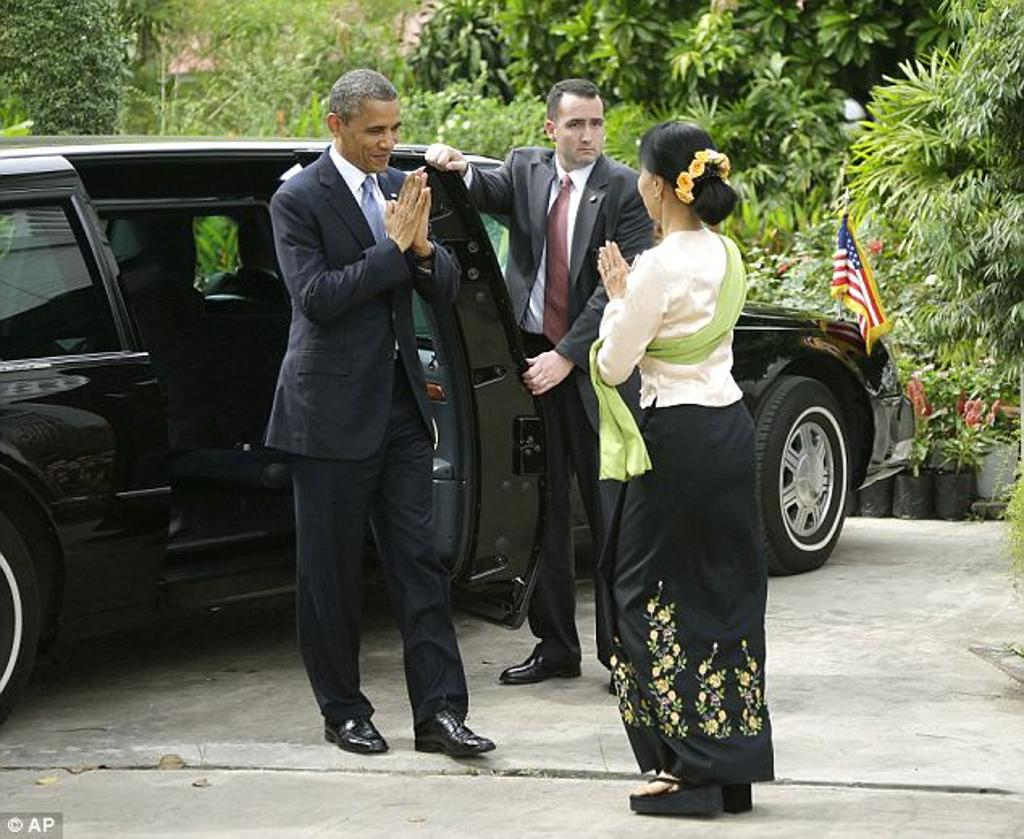face: (340, 108, 401, 172), (554, 102, 604, 163), (637, 154, 676, 218)
